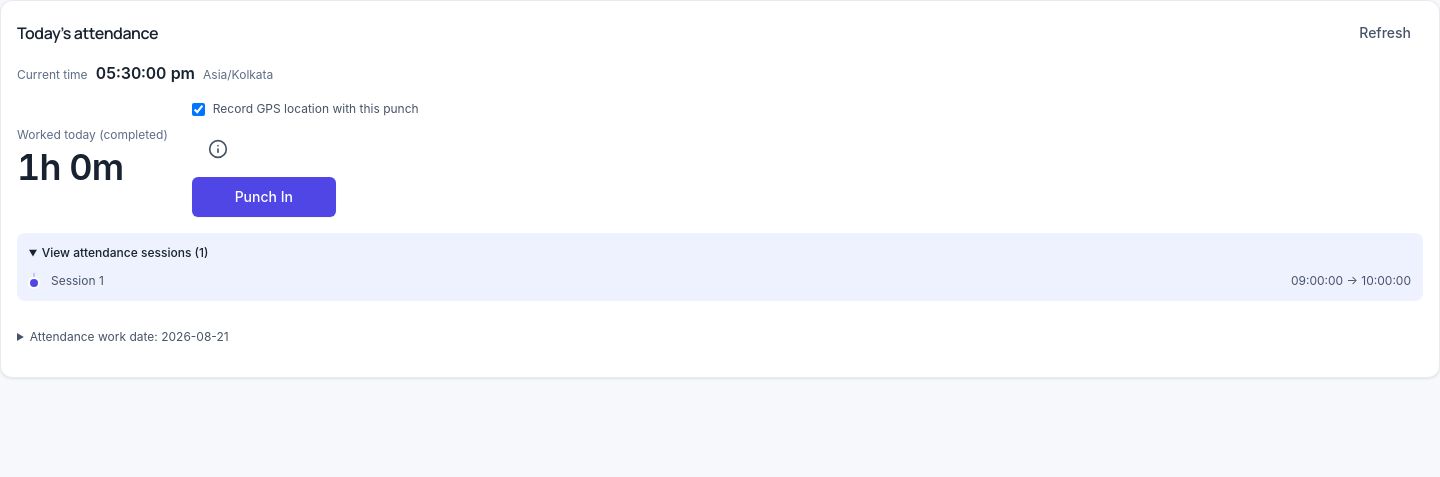
Test: PunchInOut truthful refresh states › keeps mutation errors separate from the loaded summary
Check: the text "Session 1" is shown, box [51,273,104,289]
Click the checkbox labelled "Record GPS location with this punch": coordinates (198, 109) [192,102,205,116]
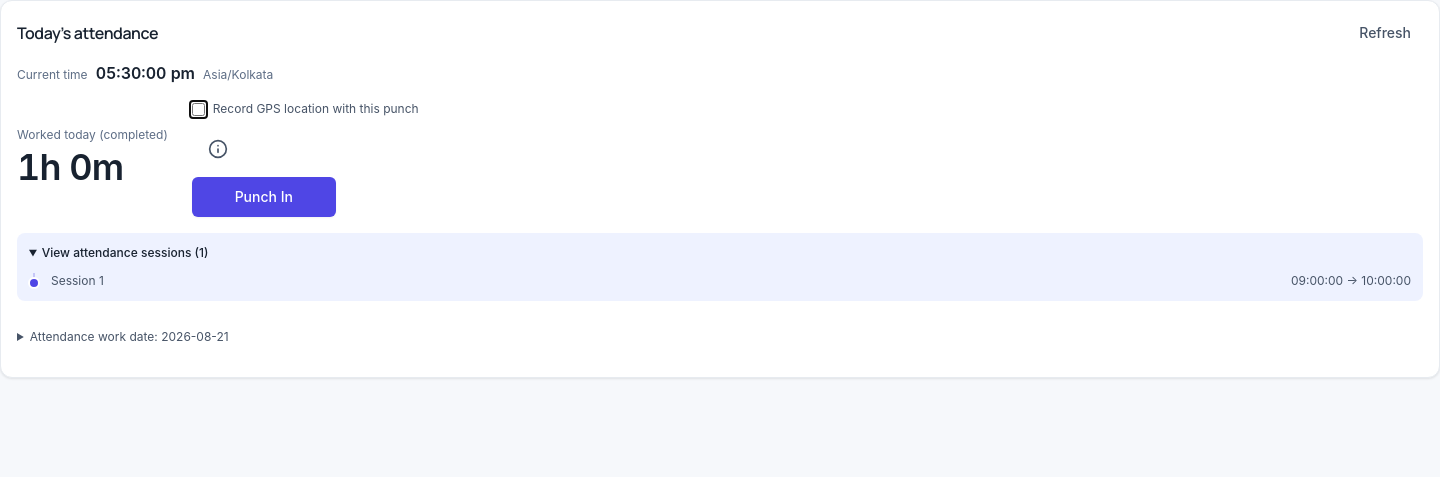
Click the button "Punch In": coordinates (264, 197) [192,177,336,217]
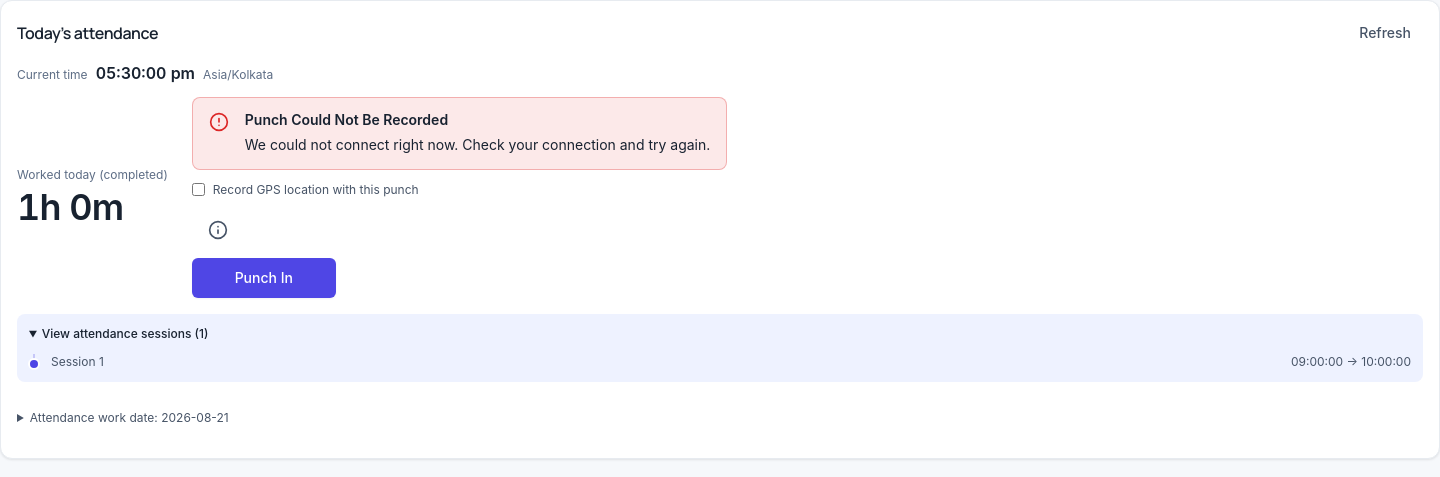
Check: the text "Session 1" is shown, box [51,354,104,370]
Check: the text "Punch Could Not Be Recorded" is shown, box [245,111,448,128]
